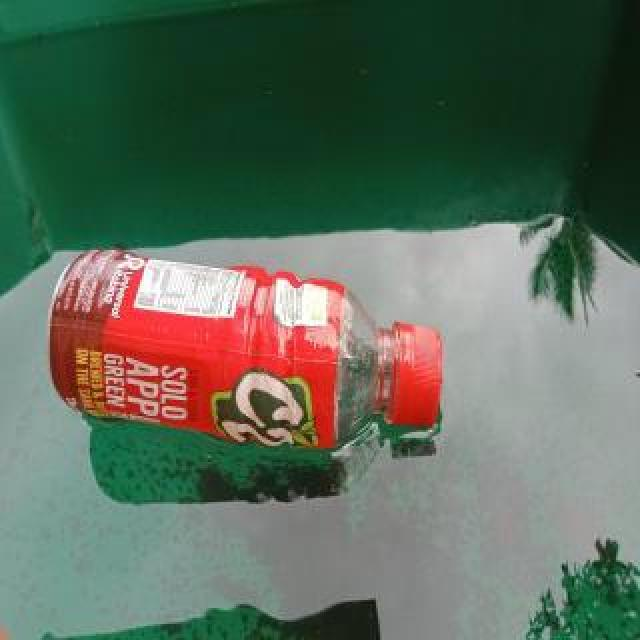bottle: (40, 240, 450, 458)
